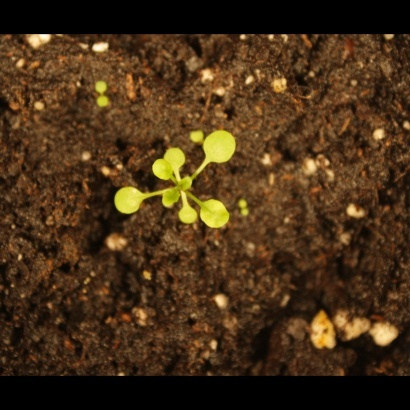leaf: (202, 123, 239, 166), (110, 184, 149, 220), (200, 197, 232, 231), (150, 158, 174, 183), (163, 146, 188, 169), (88, 72, 111, 95), (91, 94, 114, 117), (233, 186, 256, 209), (236, 207, 259, 230), (181, 124, 204, 147), (176, 203, 199, 226), (158, 187, 181, 210), (179, 171, 202, 194)
